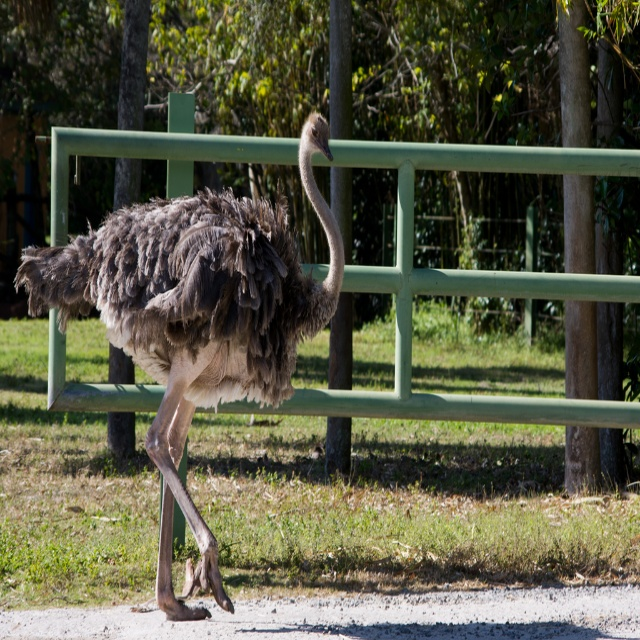Ostrich: (13, 108, 344, 621)
